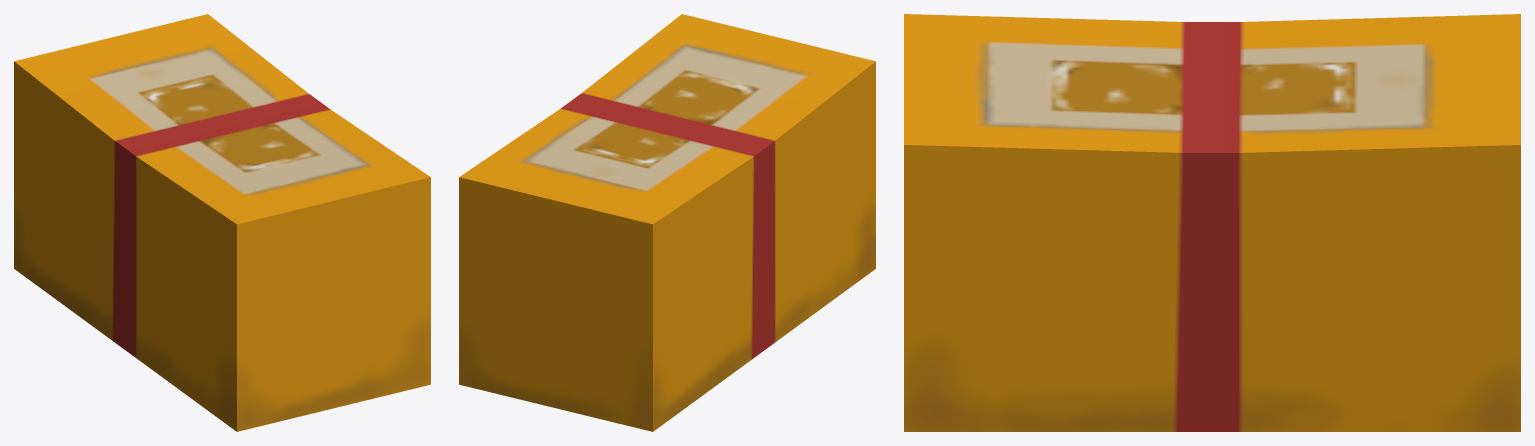
The model's file is dpaper.FBX.
The picture shows the model from 3 angles, left to right: view 1: azimuth 30°, elevation 25°; view 2: azimuth 150°, elevation 25°; view 3: azimuth 270°, elevation 25°; orthographic projection. The views are drawn at different scales.
Parts seen in each view (by area): view 1: ｄｐａｐｅｒ; view 2: ｄｐａｐｅｒ; view 3: ｄｐａｐｅｒ.
Boxes of the visible parts, bbox=[...] form: ｄｐａｐｅｒ: bbox=[14, 14, 430, 431]; ｄｐａｐｅｒ: bbox=[459, 14, 875, 431]; ｄｐａｐｅｒ: bbox=[904, 14, 1520, 431].
Size of the model in its own units: 0.2661 by 0.2721 by 0.5299.
1 material, 1 textured.
